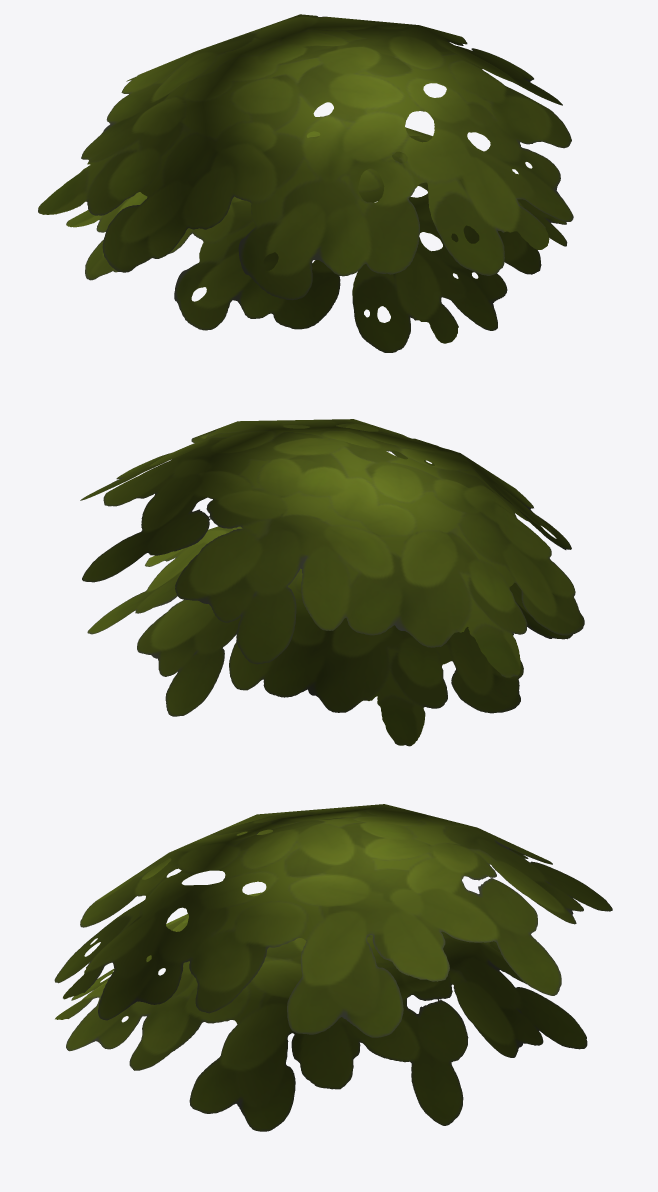
File: Jungle_shadow_01.fbx
The picture shows the model from 3 angles, top to bottom: view 1: azimuth 30°, elevation 25°; view 2: azimuth 150°, elevation 25°; view 3: azimuth 270°, elevation 25°; orthographic projection. The views are drawn at different scales.
Visible parts, largest first — view 1: Jungle_shadow_01; view 2: Jungle_shadow_01; view 3: Jungle_shadow_01.
Boxes of the visible parts, left/top/right/bottom form: Jungle_shadow_01: left=38, top=14, right=573, bottom=352; Jungle_shadow_01: left=80, top=419, right=584, bottom=746; Jungle_shadow_01: left=54, top=804, right=612, bottom=1131.
Bounding box in the file's own units: 167 × 64.21 × 166.
